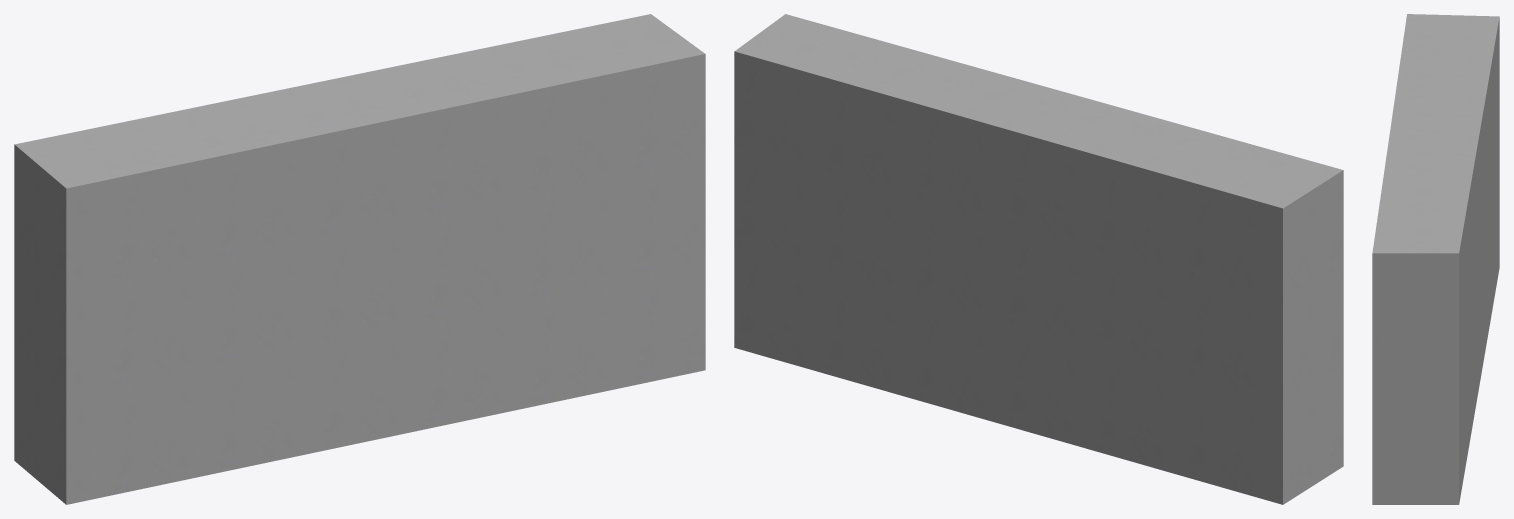
3 renders of one model, left to right at view 1: azimuth 30°, elevation 25°; view 2: azimuth 150°, elevation 25°; view 3: azimuth 270°, elevation 25°, orthographic. The views are drawn at different scales.
Parts seen in each view (by area): view 1: B283004035601062A0; view 2: B283004035601062A0; view 3: B283004035601062A0.
Part boxes in pixels (box(x1,y1,x2,y2)): B283004035601062A0: box(14, 14, 705, 504); B283004035601062A0: box(734, 14, 1343, 504); B283004035601062A0: box(1372, 14, 1499, 504).
Bounding box in the file's own units: 6.12 × 3 × 1.38.
Materials: 1 (1 with a texture image).
